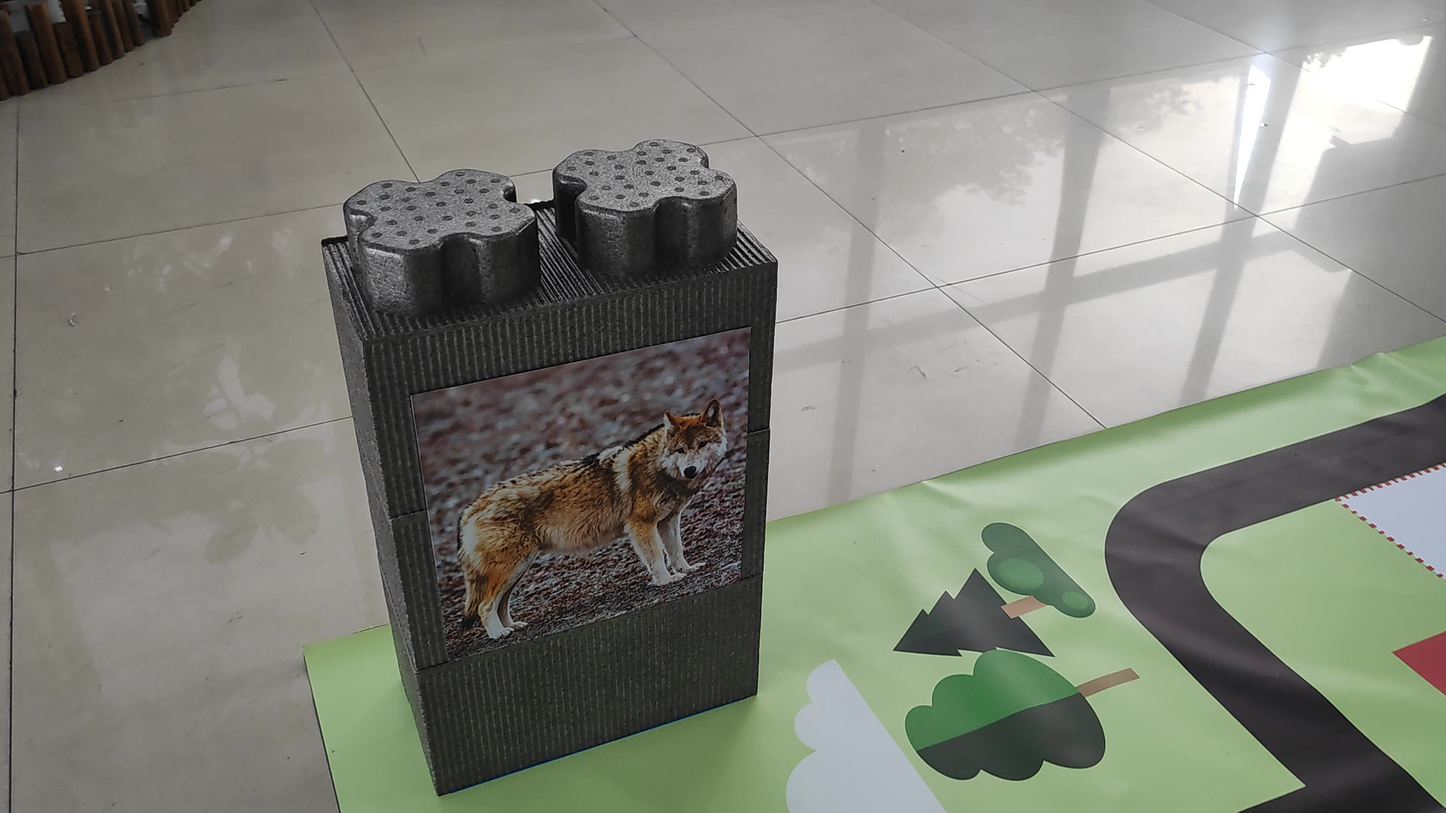wolf: (409, 330, 746, 651)
